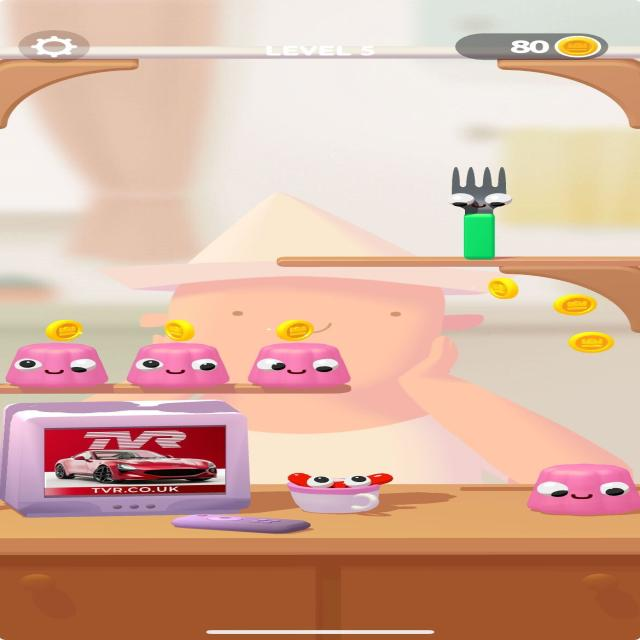billboard: (36, 421, 239, 502)
